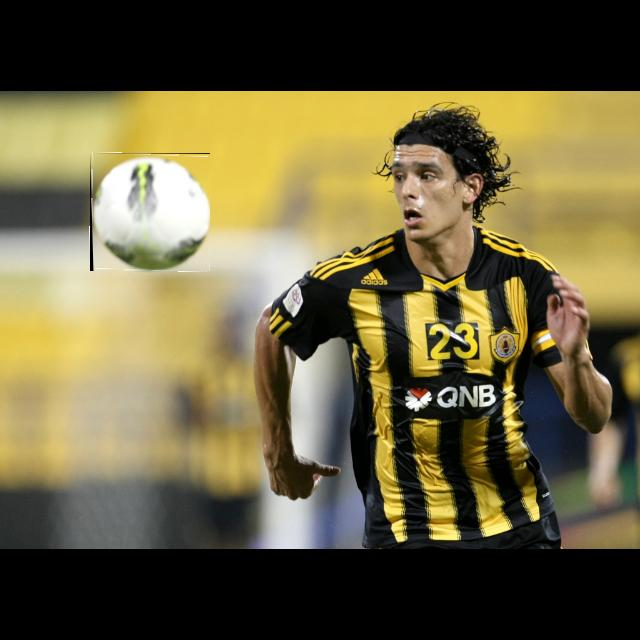Football: (90, 153, 210, 271)
